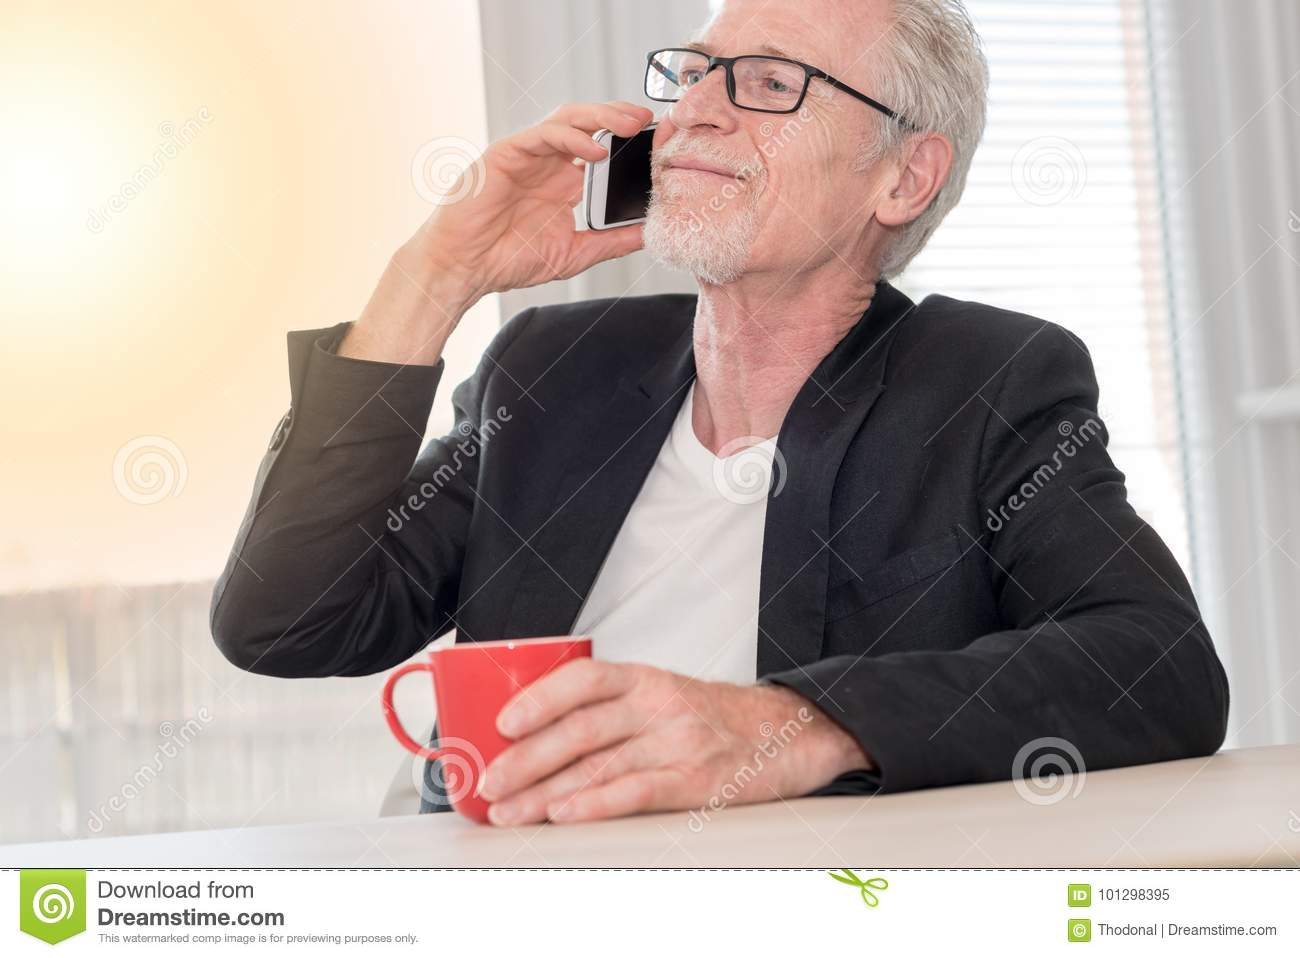phone: (580, 113, 659, 238)
talk: (424, 27, 840, 317)
